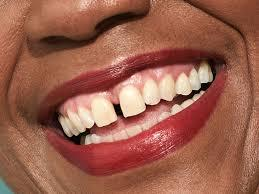Spaced: (111, 97, 124, 120)
